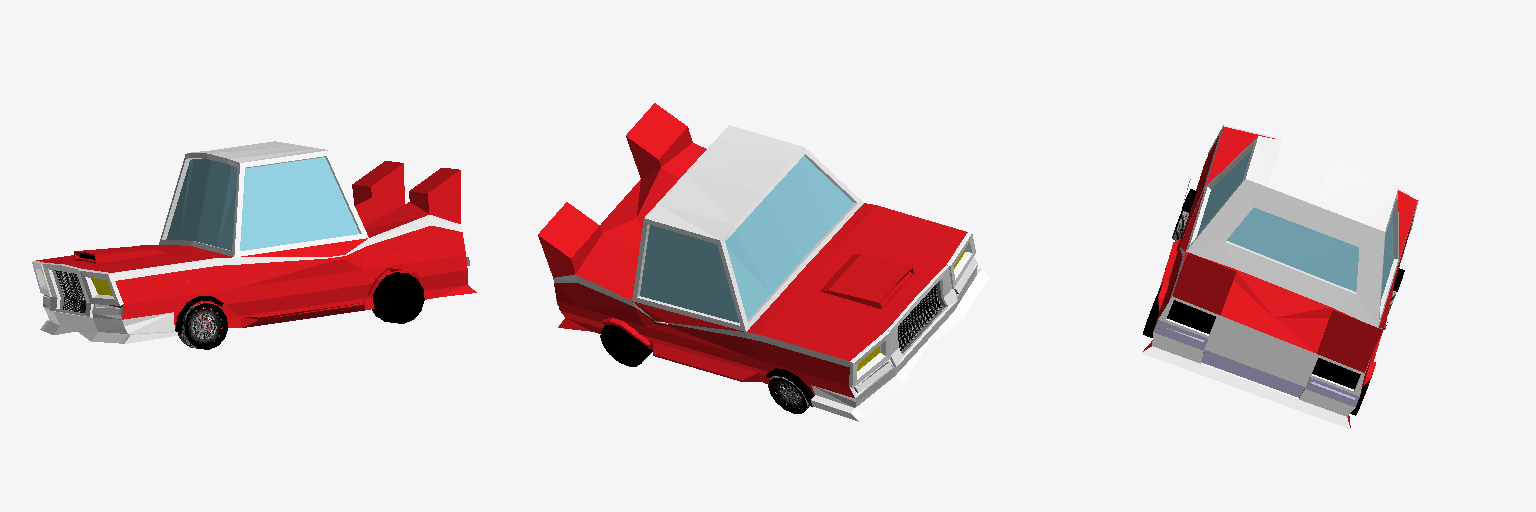
3 renders of one model, left to right at view 1: azimuth 30°, elevation 25°; view 2: azimuth 150°, elevation 25°; view 3: azimuth 270°, elevation 25°, orthographic.
Parts seen in each view (by area): view 1: carro2:polySurface147, carro2:polySurface51polySurface142polySurface144polySurface148po, carro2:polySurface51polySurface142polySurface145polySurface144; view 2: carro2:polySurface147, carro2:polySurface51polySurface143polySurface142, carro2:polySurface141polySurface51; view 3: carro2:polySurface147.
Part boxes in pixels (left/top/right/bottom): carro2:polySurface147: left=32, top=141, right=476, bottom=343; carro2:polySurface51polySurface142polySurface144polySurface148po: left=372, top=272, right=424, bottom=323; carro2:polySurface51polySurface142polySurface145polySurface144: left=178, top=303, right=227, bottom=349; carro2:polySurface147: left=538, top=103, right=989, bottom=421; carro2:polySurface51polySurface143polySurface142: left=600, top=325, right=652, bottom=366; carro2:polySurface141polySurface51: left=768, top=376, right=809, bottom=413; carro2:polySurface147: left=1142, top=125, right=1418, bottom=429.
Size of the model in its own units: 8.18 by 4.66 by 5.47.
Materials: 40 (8 with a texture image).